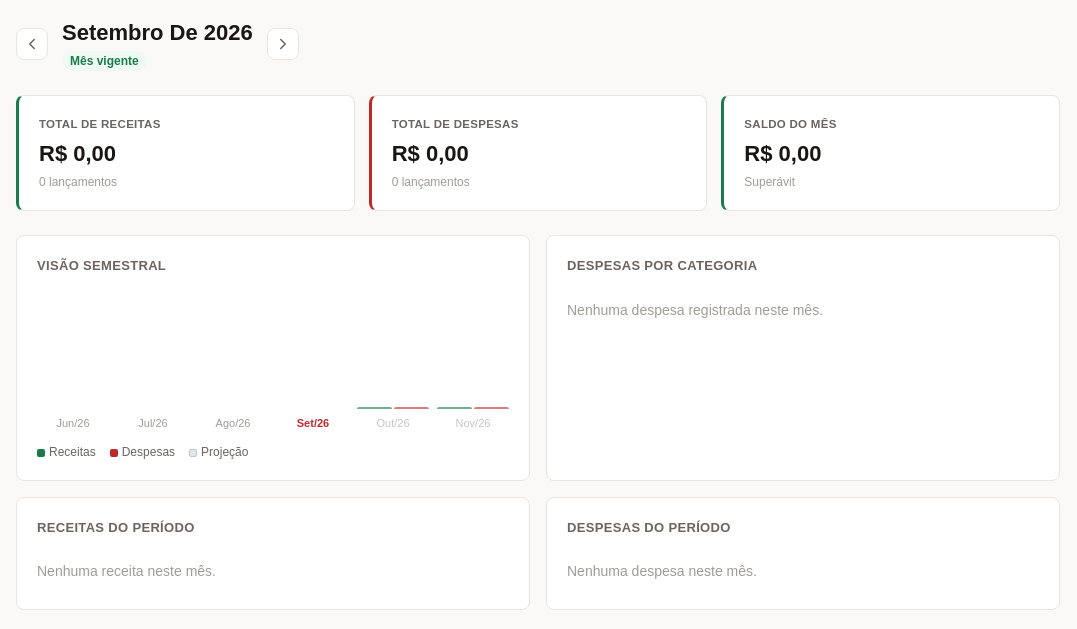
Scenario: dashboard: gráfico semestral › clicar numa coluna navega para aquele mês
Click the element showing "Jul/26" at (153,423), box x1=138 y1=417 x2=168 y2=429
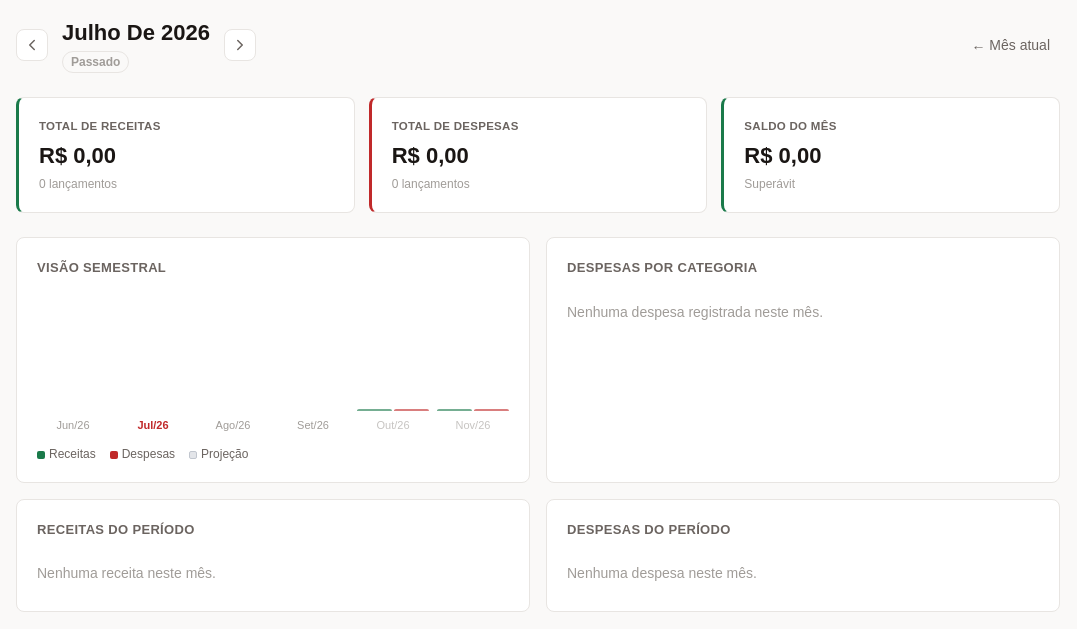
Now the text "Julho de 2026" is shown, box x1=62 y1=16 x2=210 y2=49
Now the text "Passado" is shown, box x1=62 y1=51 x2=129 y2=73
